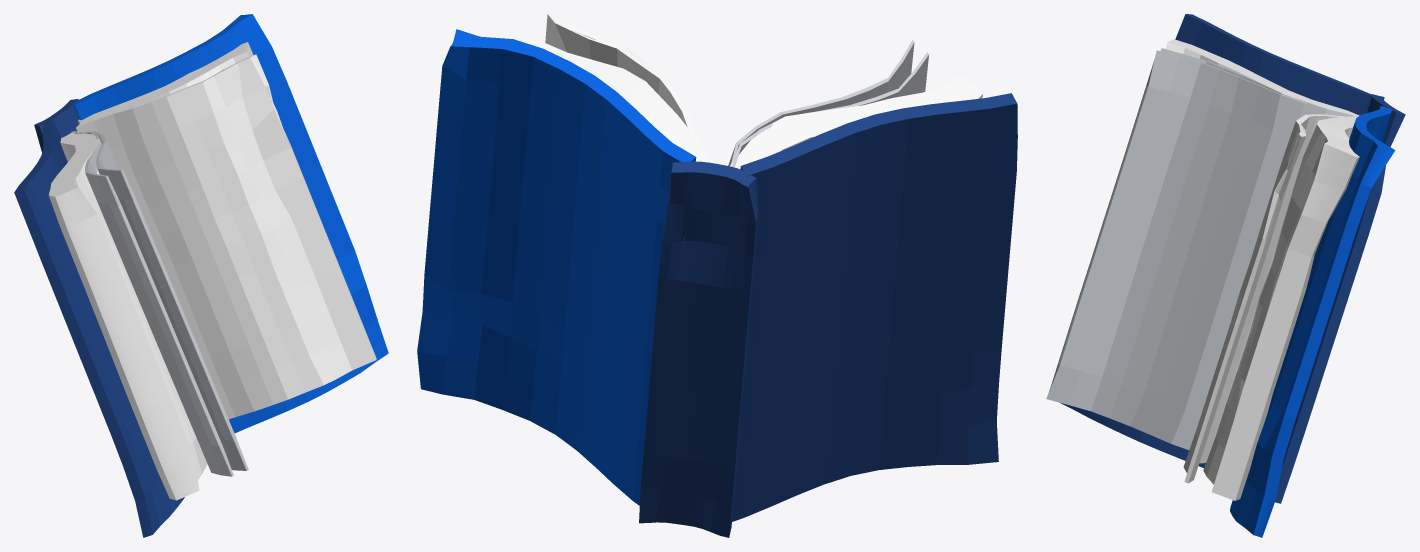
The model's file is book.glb.
3 renders of one model, left to right at view 1: azimuth 30°, elevation 25°; view 2: azimuth 150°, elevation 25°; view 3: azimuth 270°, elevation 25°, orthographic. The views are drawn at different scales.
Visible parts, largest first — view 1: Cube.007; view 2: Cube.007; view 3: Cube.007.
Boxes of the visible parts, left/top/right/bottom form: Cube.007: left=14, top=14, right=388, bottom=537; Cube.007: left=417, top=14, right=1017, bottom=537; Cube.007: left=1046, top=14, right=1405, bottom=537.
Size of the model in its own units: 0.2557 by 0.229 by 0.1807.
